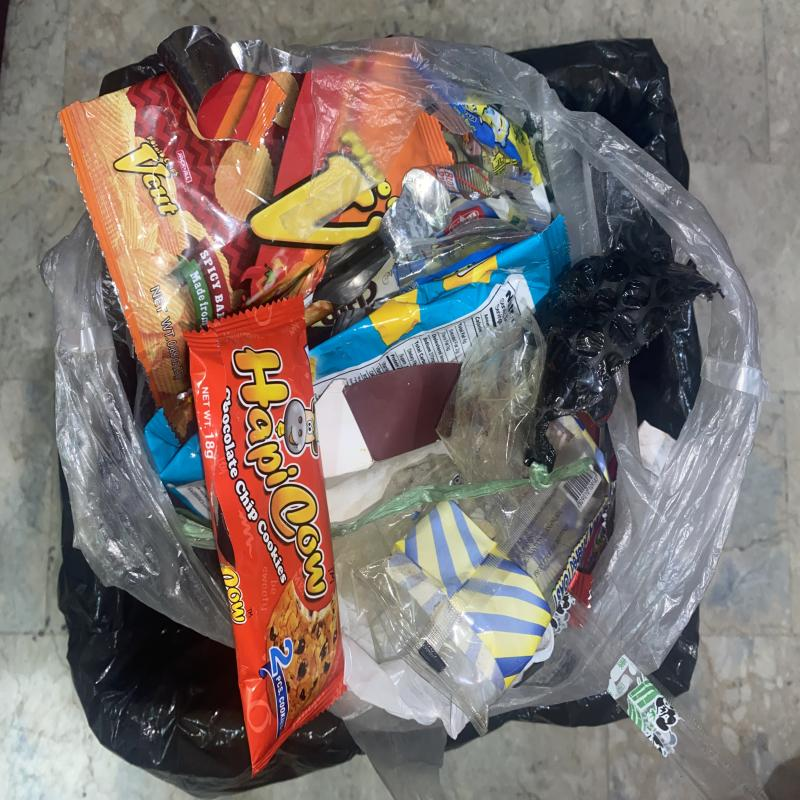food wrapper: (56, 24, 454, 410), (142, 212, 571, 526), (352, 412, 611, 737), (184, 292, 347, 778), (418, 101, 550, 225)
plastic bag: (436, 314, 543, 546)
